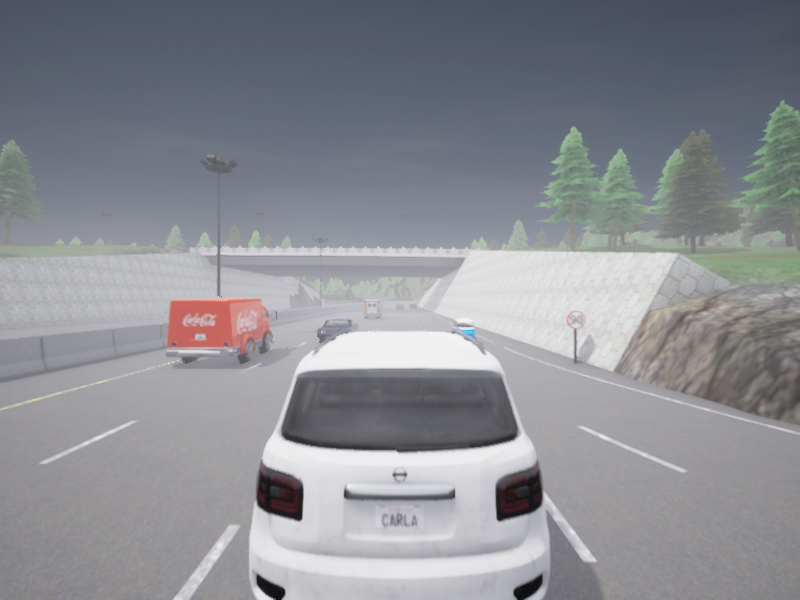vehicle: (250, 330, 548, 599), (166, 298, 276, 362), (317, 319, 358, 342), (449, 318, 475, 340), (363, 300, 383, 317), (395, 304, 403, 309), (409, 303, 416, 308)
